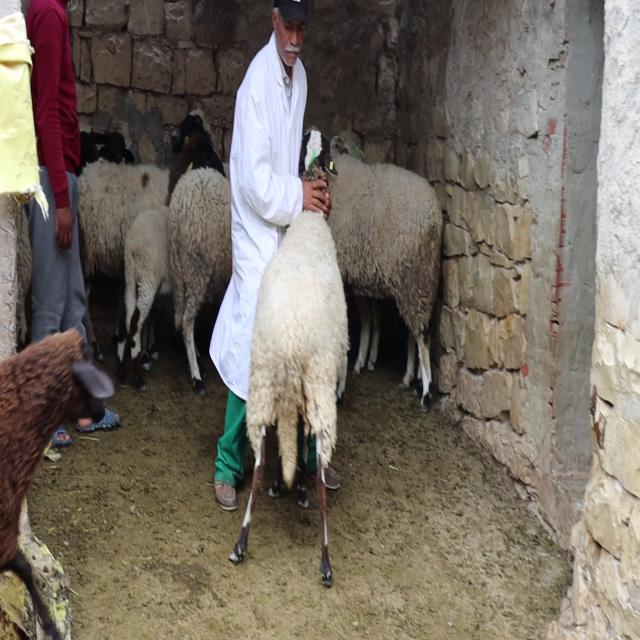Score_4: (229, 211, 348, 587)
